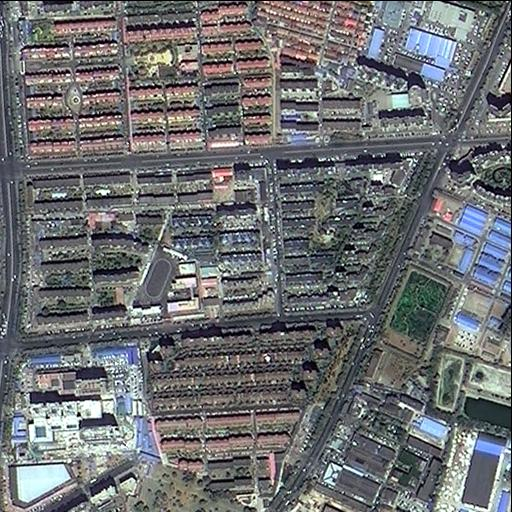school: (135, 243, 200, 320)
